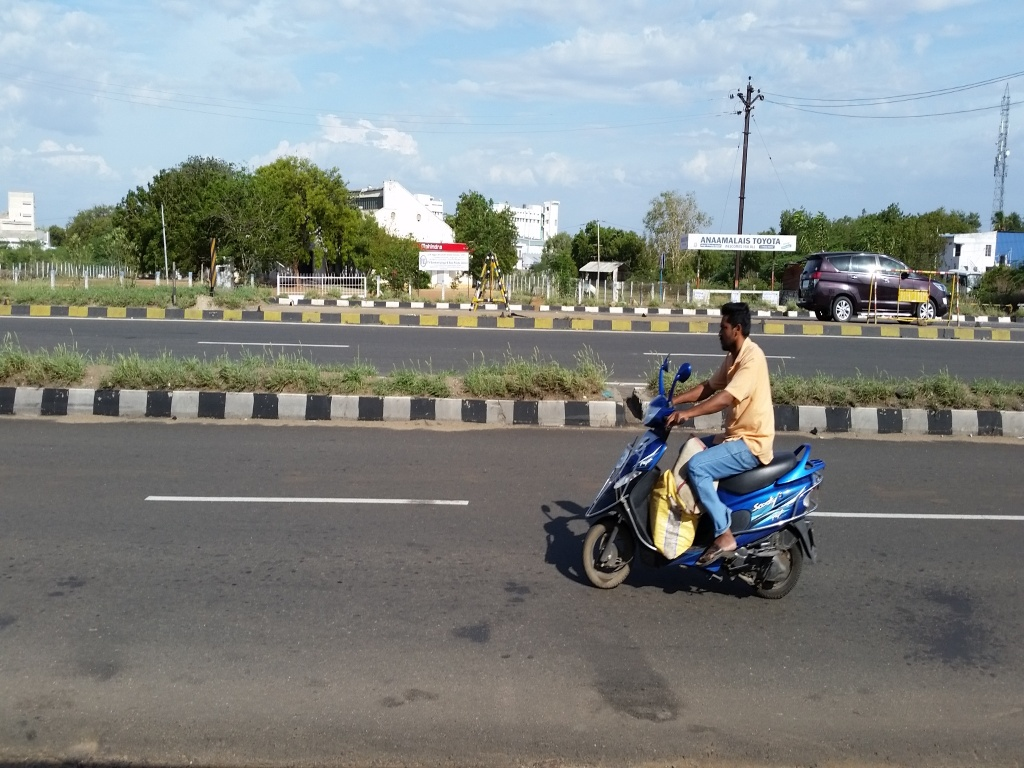biker: (571, 270, 841, 604)
nohelmet: (711, 295, 763, 363)
